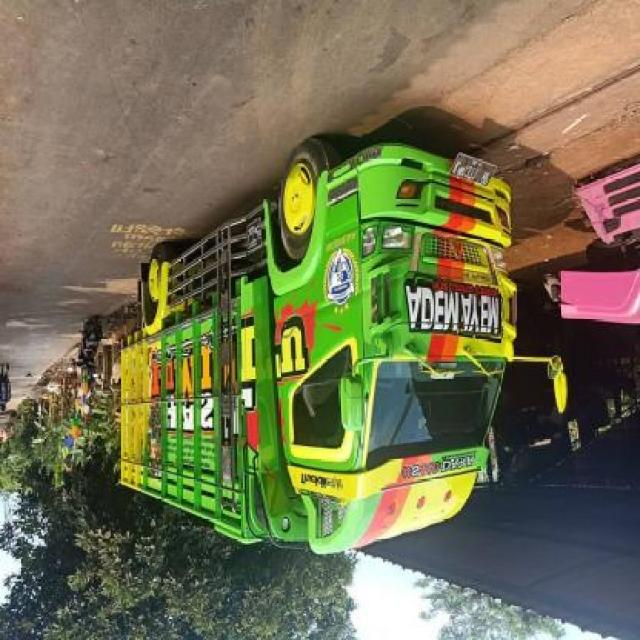truck: (121, 143, 569, 557)
